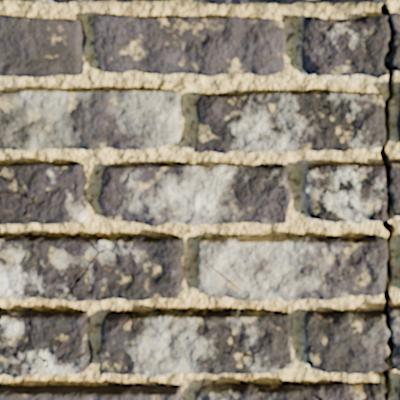brick: (100, 309, 290, 375), (0, 234, 183, 300), (99, 162, 290, 225), (198, 236, 386, 300), (94, 14, 285, 75), (195, 91, 384, 152), (0, 88, 181, 149), (0, 309, 92, 377), (0, 163, 86, 224), (0, 16, 85, 76), (196, 382, 383, 399), (0, 384, 181, 399), (200, 0, 383, 3), (0, 179, 22, 191), (22, 0, 106, 2), (119, 0, 133, 2), (398, 114, 399, 137)
broken_brick: (303, 309, 387, 374), (301, 15, 387, 78), (302, 163, 385, 224), (389, 305, 399, 371), (389, 160, 399, 216), (390, 12, 399, 72)
crack: (370, 0, 398, 399), (0, 174, 37, 217), (263, 175, 290, 207), (313, 393, 322, 399), (303, 393, 306, 399)
